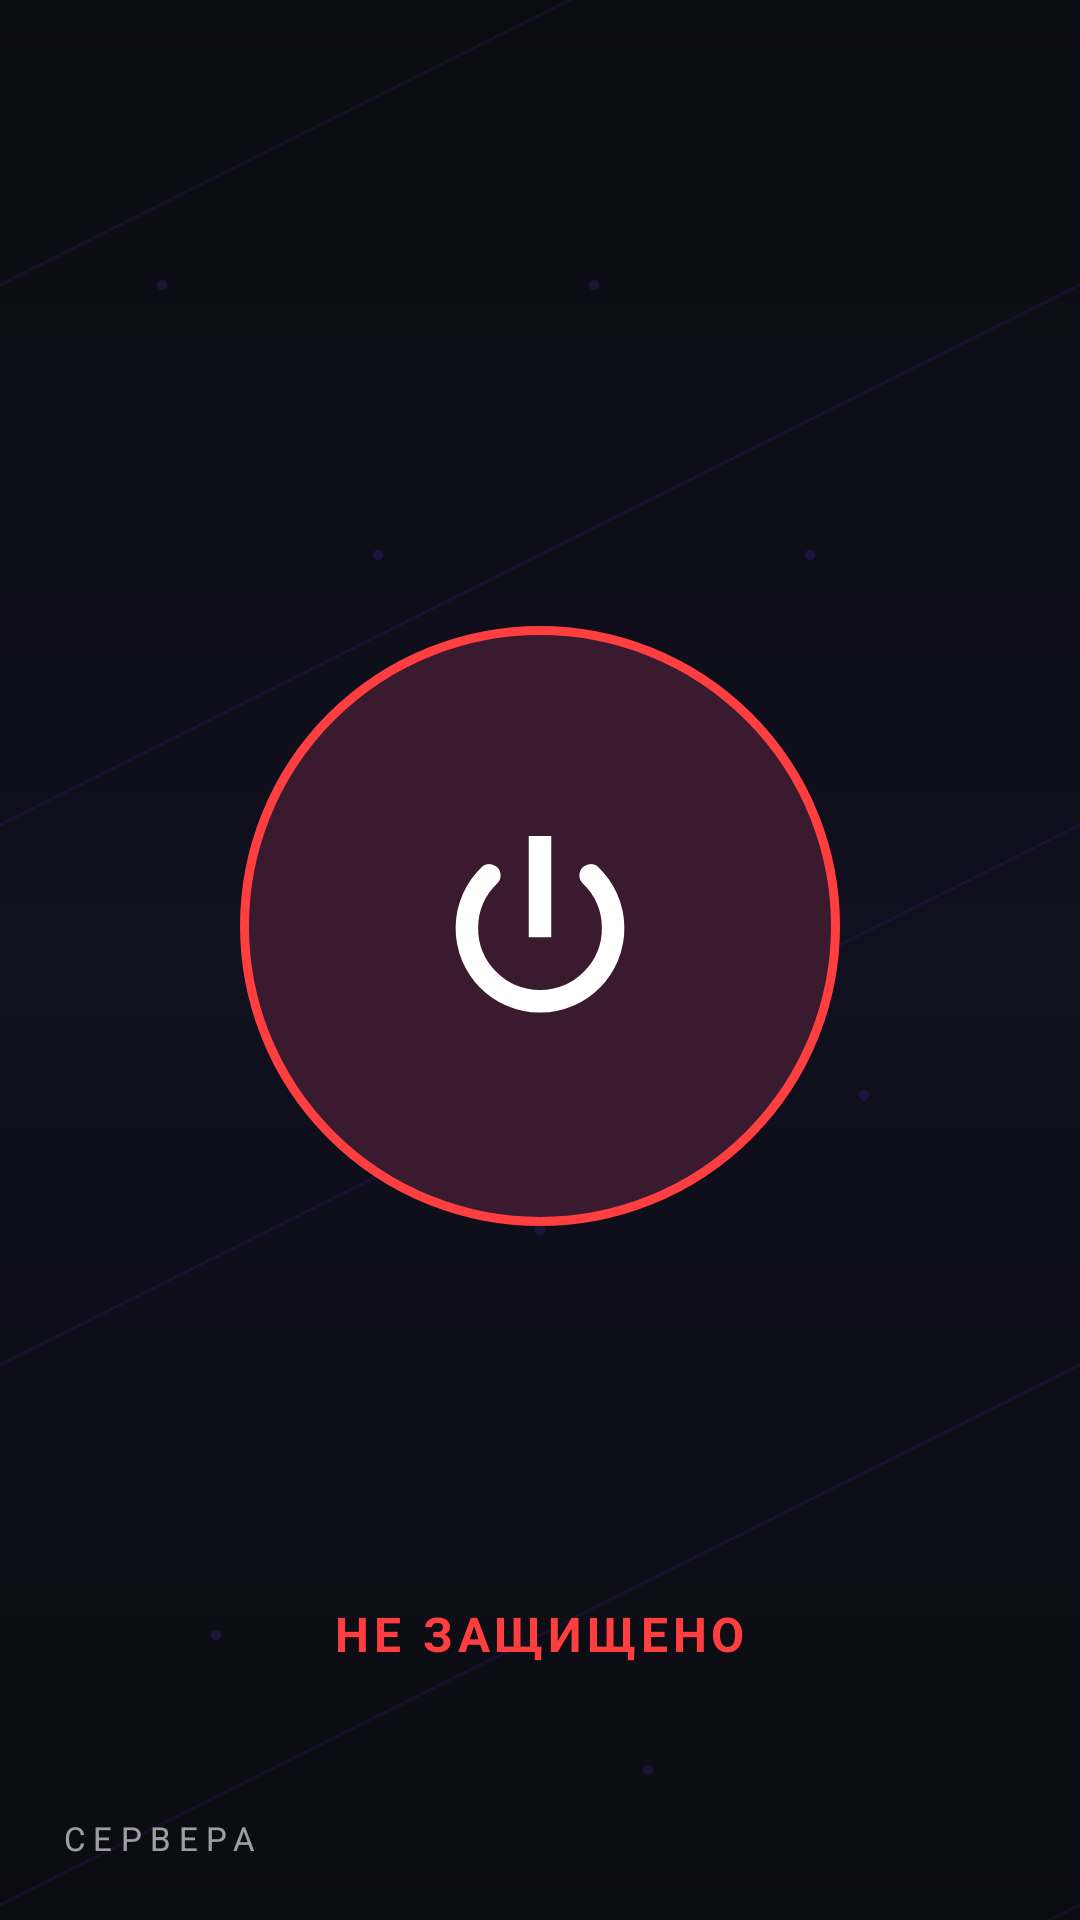

Screen size 1080 x 1920. Icon name, then its center in pixels as (x,y):
power circle: (540,924)
